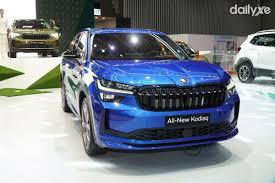skoda: (177, 75, 193, 87)
